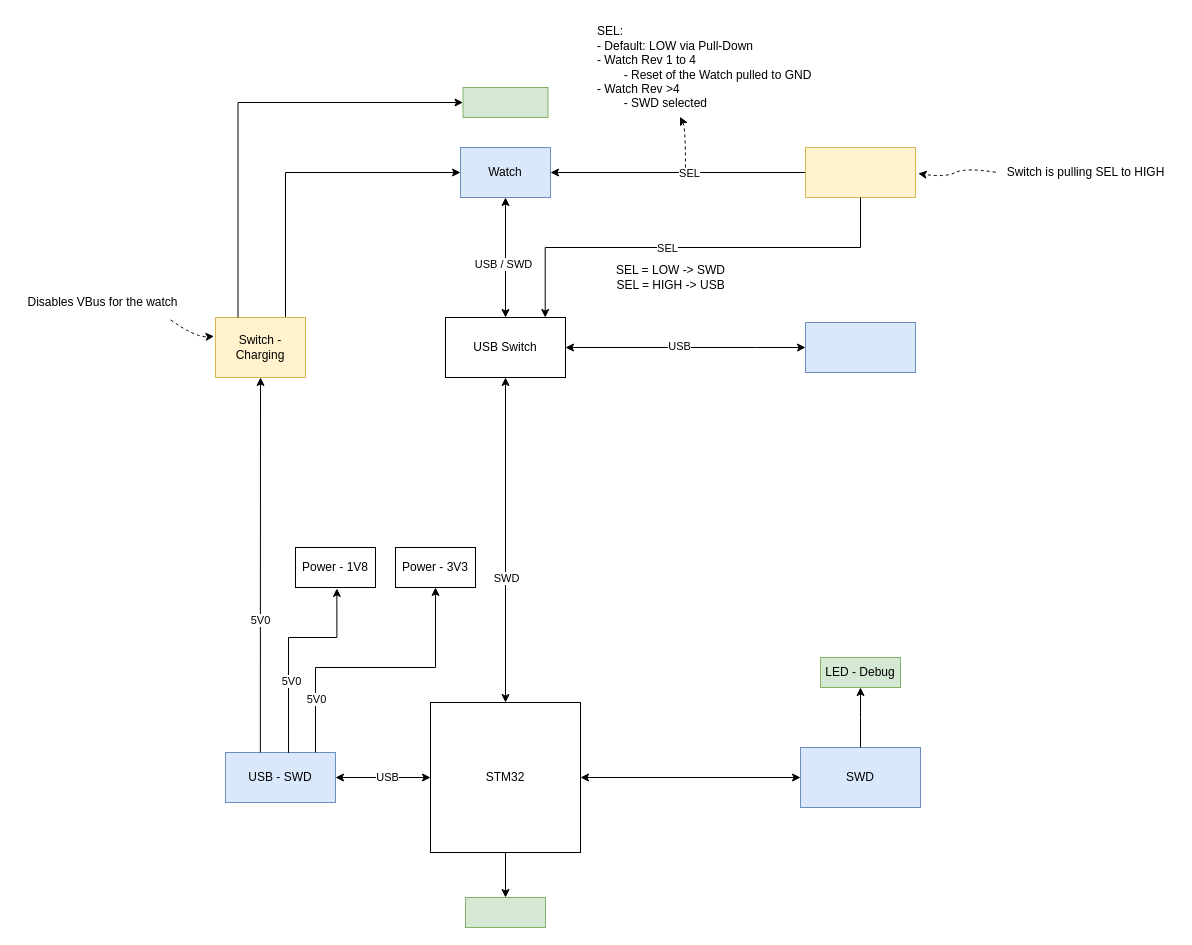
The diagram is 1192 pixels wide and 945 high, and some of its shapes have lost their labels. The shapes that lost their labels are listed below. From the top down, each one's centre as x and y in pixels, then its label:
[505,102]: LED - Charging
[860,172]: Switch - SEL USB
[860,347]: USB - Data
[505,912]: LED - Status
